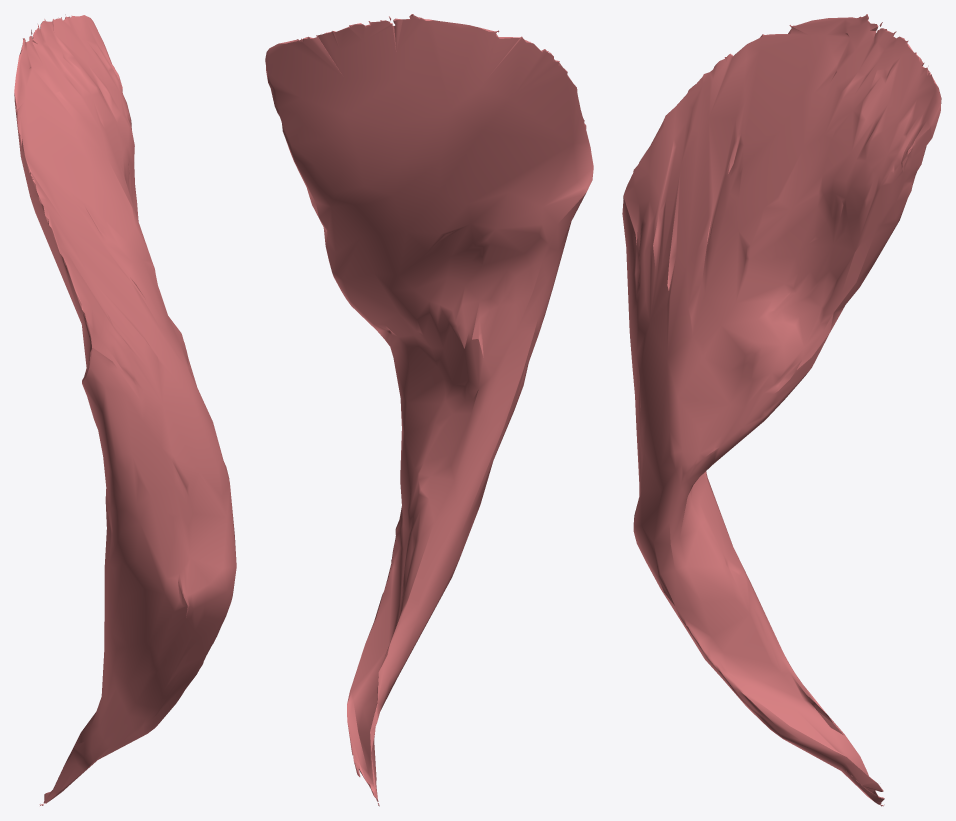
The picture shows the model from 3 angles, left to right: view 1: azimuth 30°, elevation 25°; view 2: azimuth 150°, elevation 25°; view 3: azimuth 270°, elevation 25°; orthographic projection.
Visible parts, largest first — view 1: FJ1422; view 2: FJ1422; view 3: FJ1422.
Boxes of the visible parts, <box> form: FJ1422: <box>14,14,236,805</box>; FJ1422: <box>265,14,593,806</box>; FJ1422: <box>622,14,941,806</box>.
Bounding box in the file's own units: 0.0542 × 0.223 × 0.0826.
